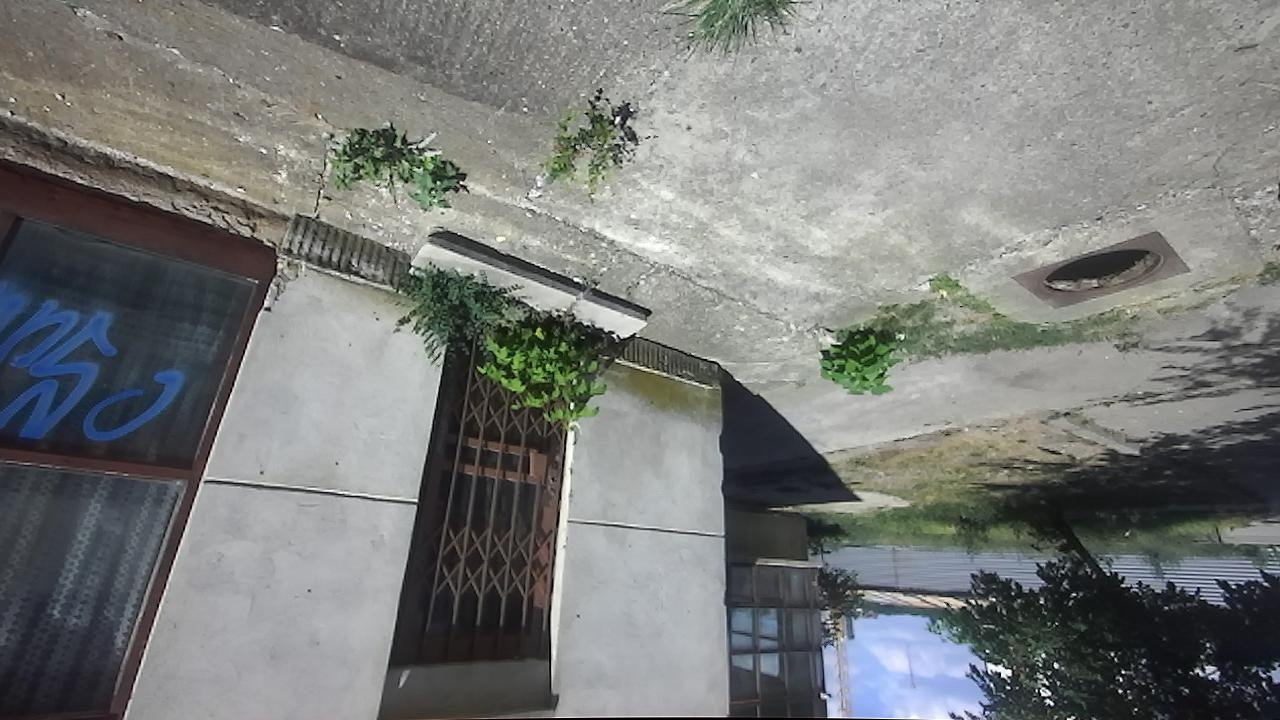drain: (1023, 245, 1168, 298)
